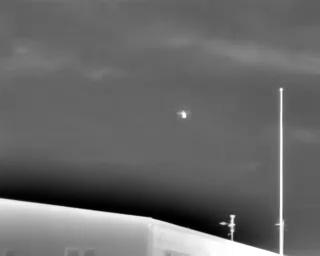HELICOPTER: (175, 106, 194, 122)
